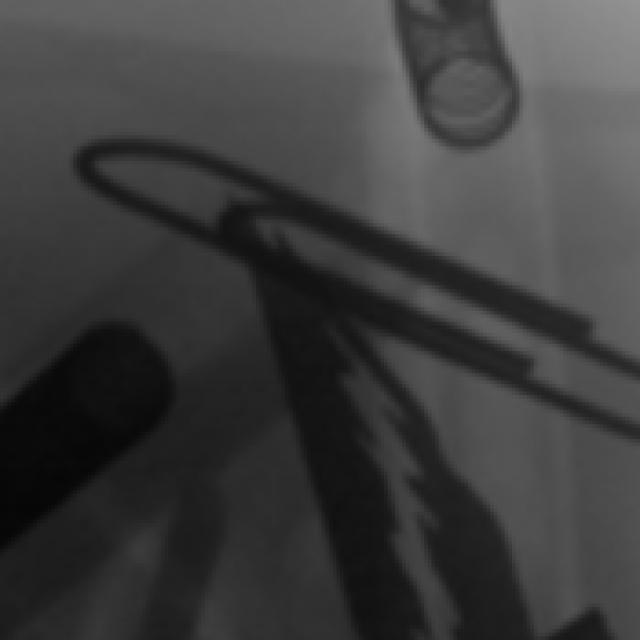BLADE: (261, 326, 517, 640)
GUN: (1, 405, 177, 521)
